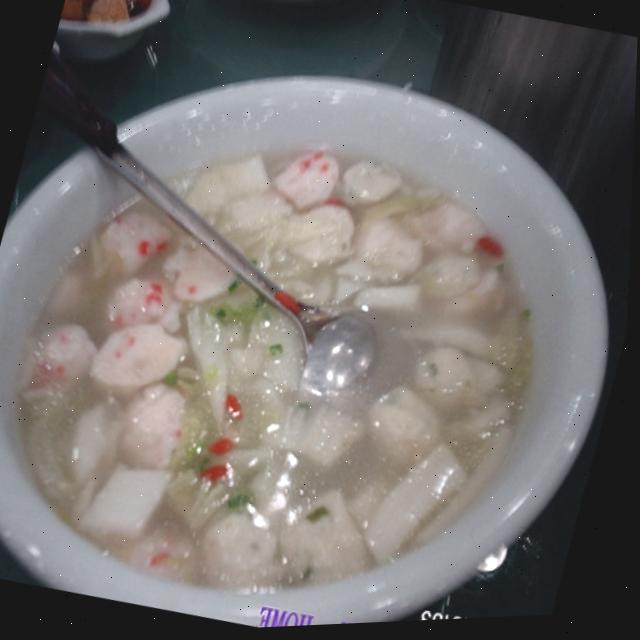熟制海鲜: (0, 69, 590, 623)
